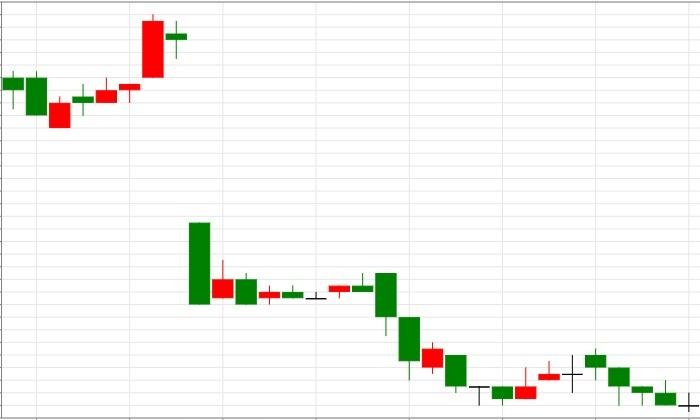three_black_crows_fall: (491, 348, 654, 406)
